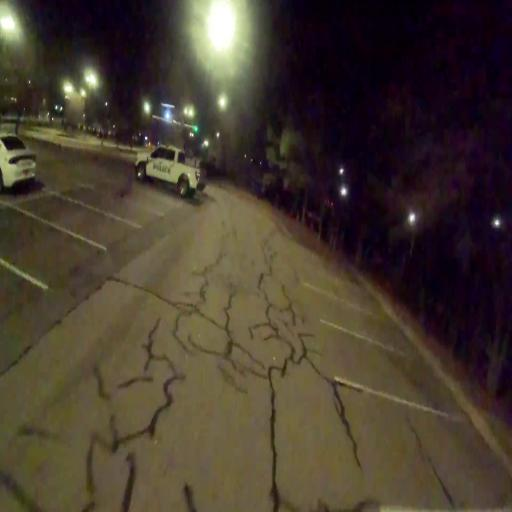uav: (150, 99, 200, 139)
